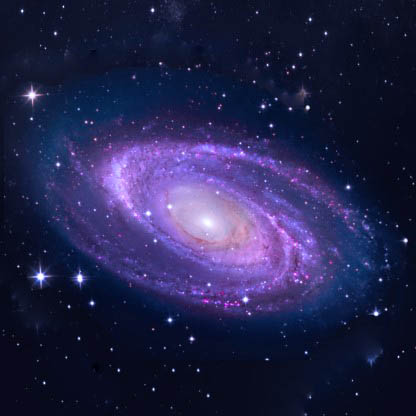Messier 81: (21, 92, 397, 324)
